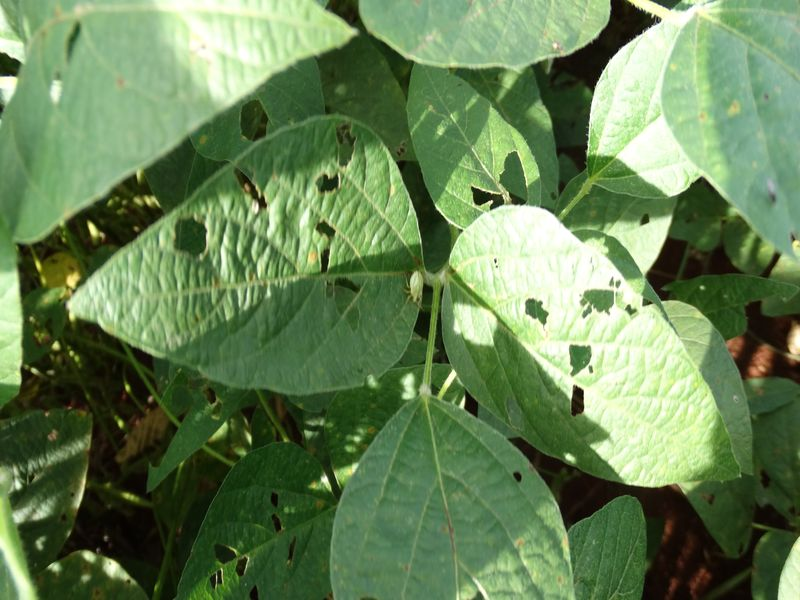Euschistus_heros_ninfa: (398, 266, 433, 312)
